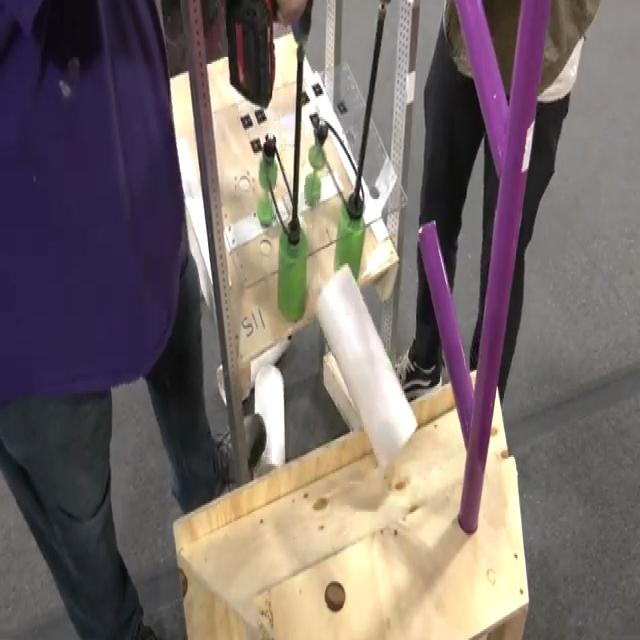Coral: (315, 260, 418, 470), (254, 367, 288, 475)
